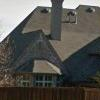Chimney: (46, 1, 66, 43)
